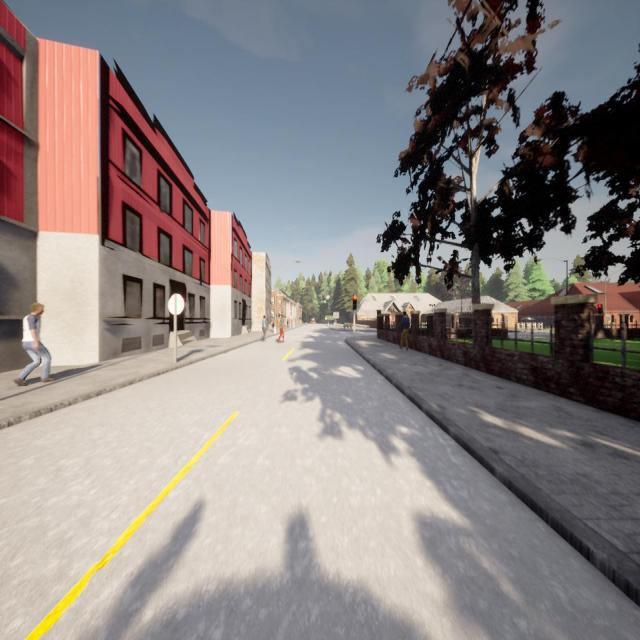Pedestrian: (12, 302, 55, 387), (399, 310, 410, 350), (277, 313, 285, 343), (261, 315, 268, 342)
Traffic_Signs: (168, 294, 185, 316), (325, 317, 327, 320)
traffic_light: (352, 294, 357, 310), (598, 304, 602, 313)
